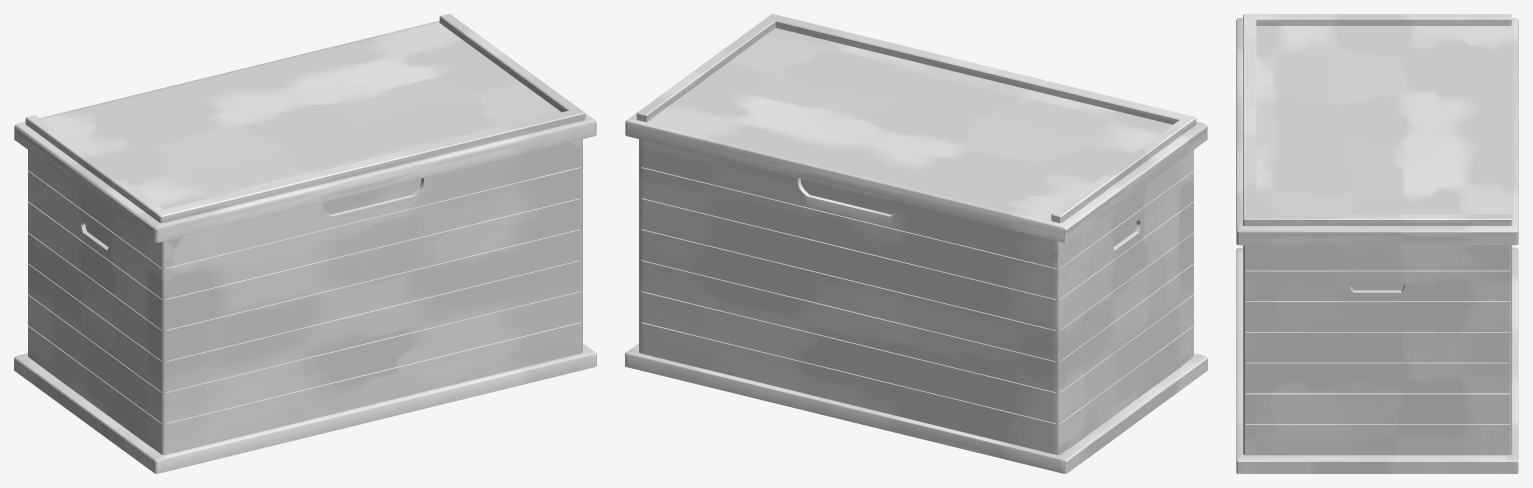
File: chest.fbx
The picture shows the model from 3 angles, left to right: view 1: azimuth 30°, elevation 25°; view 2: azimuth 150°, elevation 25°; view 3: azimuth 270°, elevation 25°; orthographic projection.
Visible parts, largest first — view 1: chest, chest_top; view 2: chest, chest_top; view 3: chest_top, chest.
Boxes of the visible parts, box(x1,y1,x2,y2) form: chest: box(14, 139, 596, 473); chest_top: box(14, 14, 596, 242); chest: box(625, 139, 1207, 473); chest_top: box(625, 14, 1207, 242); chest_top: box(1236, 14, 1518, 245); chest: box(1236, 245, 1518, 473).
Size of the model in its own units: 1.14 by 0.6275 by 0.64.
1 material, 1 textured.
